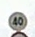limite 40: (7, 10, 28, 31)
